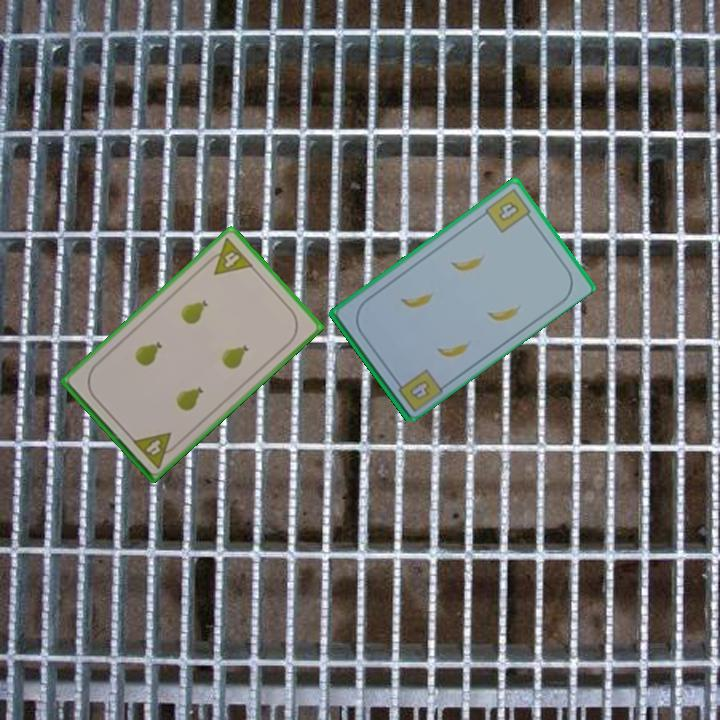4b: (481, 185, 536, 236), (408, 378, 430, 400)
4p: (201, 234, 256, 278), (129, 428, 182, 471)
